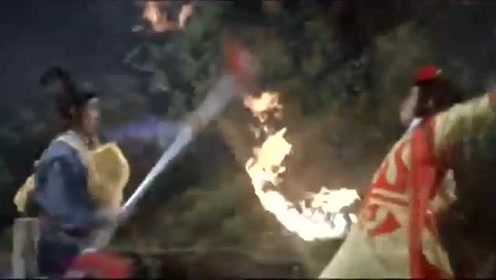fire: (244, 129, 360, 235), (11, 172, 38, 212), (244, 87, 279, 117)
